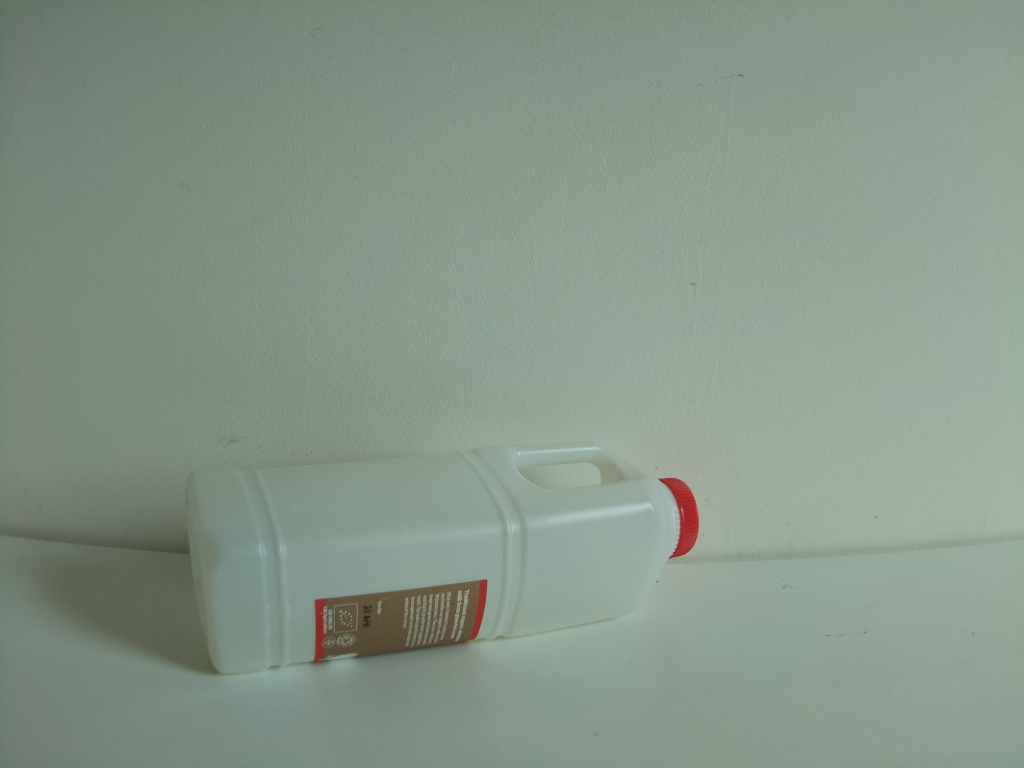milk: (173, 438, 701, 668)
